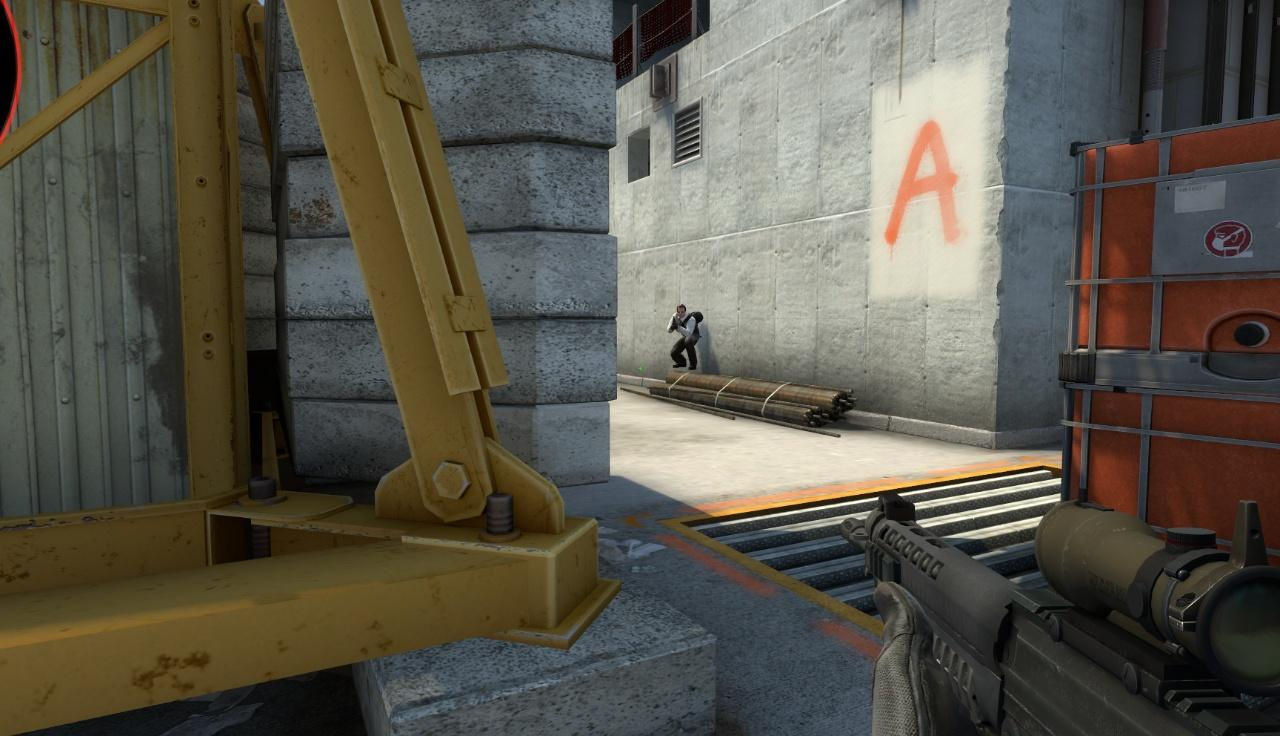rifle: (836, 481, 1280, 736)
tt: (669, 303, 700, 370)
tthead: (676, 305, 686, 317)
